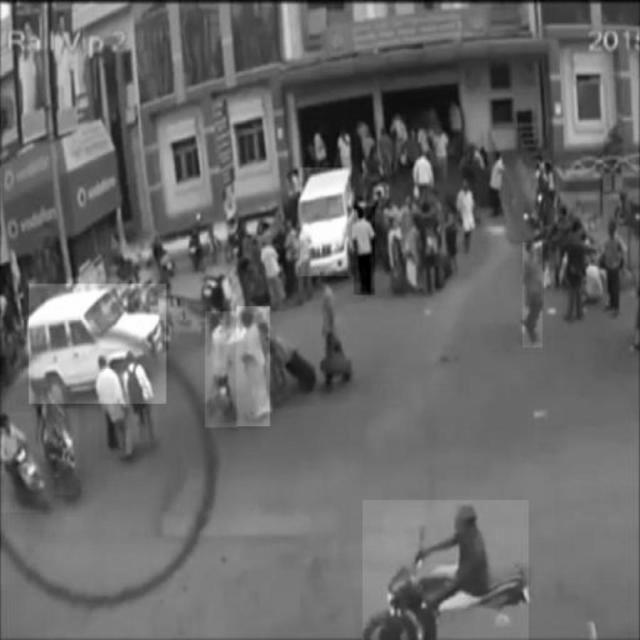person: (236, 307, 270, 427), (205, 311, 237, 427), (99, 354, 129, 460), (127, 347, 157, 441), (522, 243, 542, 347), (354, 207, 374, 295)
vehicle: (363, 500, 528, 640), (30, 284, 167, 404), (300, 168, 351, 276), (35, 375, 79, 495), (2, 412, 52, 512)
